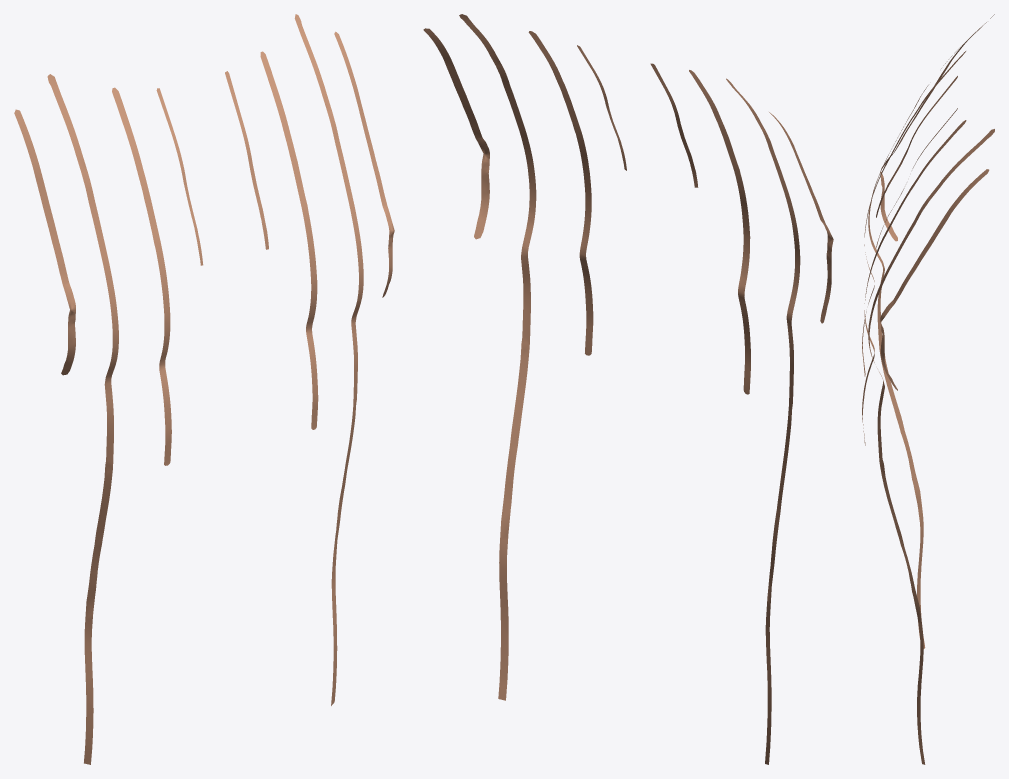
The model's file is 8_General.glb.
3 renders of one model, left to right at view 1: azimuth 30°, elevation 25°; view 2: azimuth 150°, elevation 25°; view 3: azimuth 270°, elevation 25°, orthographic. The views are drawn at different scales.
Visible parts, largest first — view 1: Midclavicular line.r, Midclavicular line.l, Parasternal line.r, Parasternal line.l, Mamillary line.r, Mamillary line.l, Sternal line.l, Sternal line.r; view 2: Midclavicular line.l, Midclavicular line.r, Parasternal line.l, Parasternal line.r, Mamillary line.l, Mamillary line.r; view 3: Midclavicular line.l, Midclavicular line.r, Mamillary line.l, Parasternal line.l, Mamillary line.r, Parasternal line.r, Sternal line.r.
Part boxes in pixels (box(x1,y1,x2,y2)): Midclavicular line.r: box(47, 74, 118, 764); Midclavicular line.l: box(294, 14, 363, 705); Parasternal line.r: box(112, 87, 171, 465); Parasternal line.l: box(260, 51, 318, 429); Mamillary line.r: box(14, 109, 75, 375); Mamillary line.l: box(334, 31, 394, 297); Sternal line.l: box(225, 71, 268, 249); Sternal line.r: box(156, 88, 203, 265); Midclavicular line.l: box(459, 14, 536, 700); Midclavicular line.r: box(726, 78, 800, 764); Parasternal line.l: box(528, 31, 593, 355); Parasternal line.r: box(689, 70, 750, 394); Mamillary line.l: box(423, 28, 489, 239); Mamillary line.r: box(769, 112, 833, 323); Midclavicular line.l: box(868, 129, 994, 764); Midclavicular line.r: box(868, 14, 994, 648); Mamillary line.l: box(880, 169, 989, 390); Parasternal line.l: box(862, 120, 966, 445); Mamillary line.r: box(880, 22, 986, 241); Parasternal line.r: box(862, 51, 965, 376); Sternal line.r: box(876, 76, 957, 217).
Bounding box in the file's own units: 0.2225 × 0.4348 × 0.0822.
